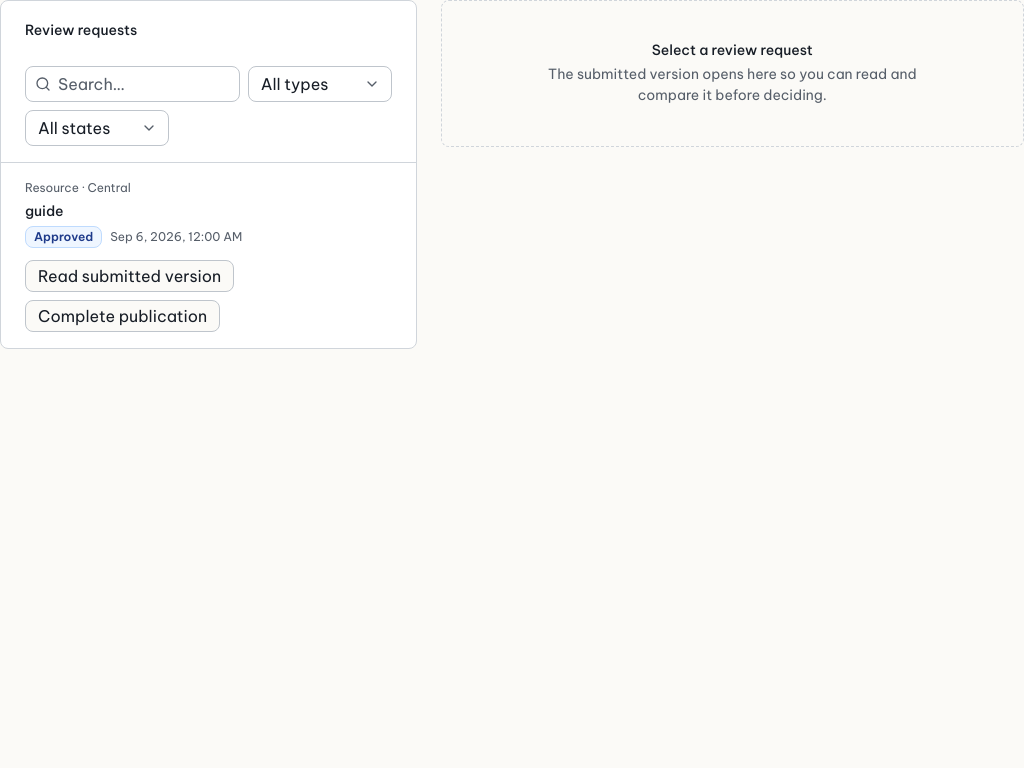
Test: review workbench publication › keeps atomic publication retryable when a 200 response reports stale
This screenshot has width=1024, height=768.
Click the button "Complete publication" at {"x": 123, "y": 316}, box [25,300,220,332]
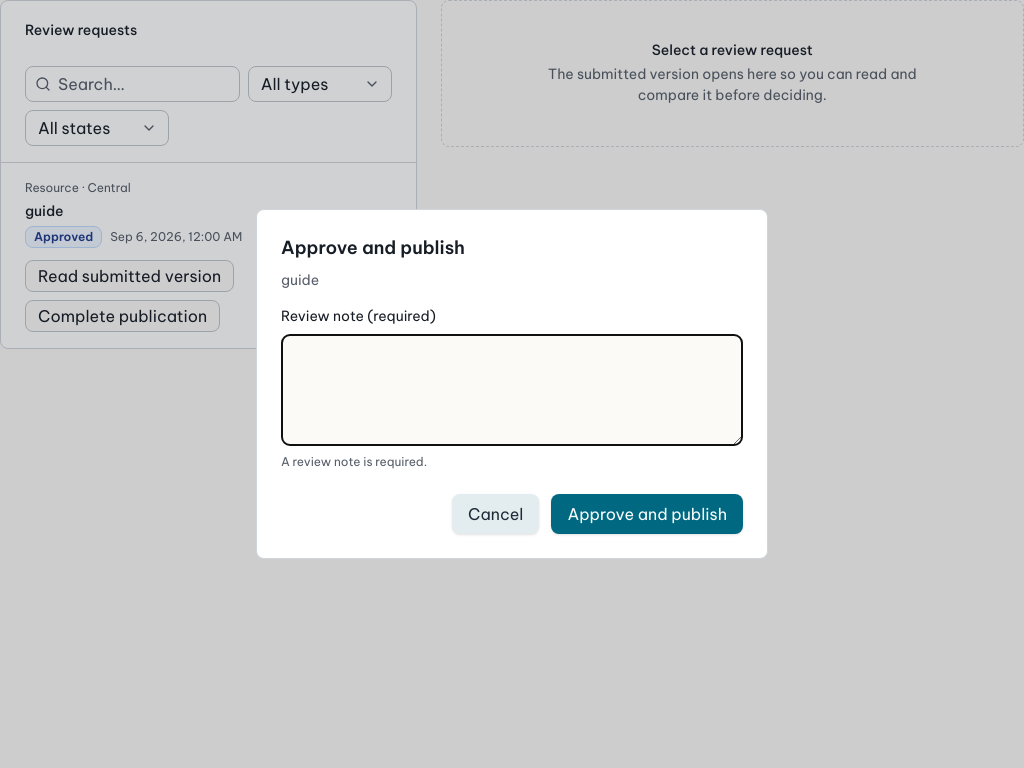
Type "Checked" into the text box labelled "Review note (required)" at {"x": 512, "y": 390}, box [281,334,743,446]
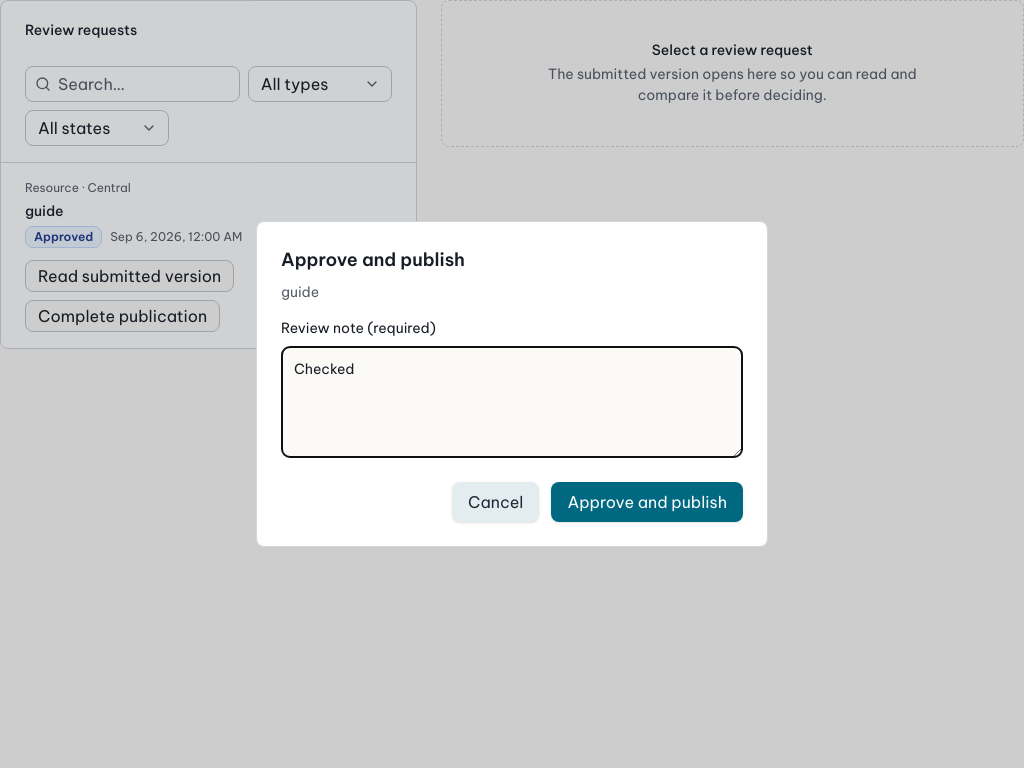
Click the button "Approve and publish" at {"x": 647, "y": 502}, box [551,482,743,522]
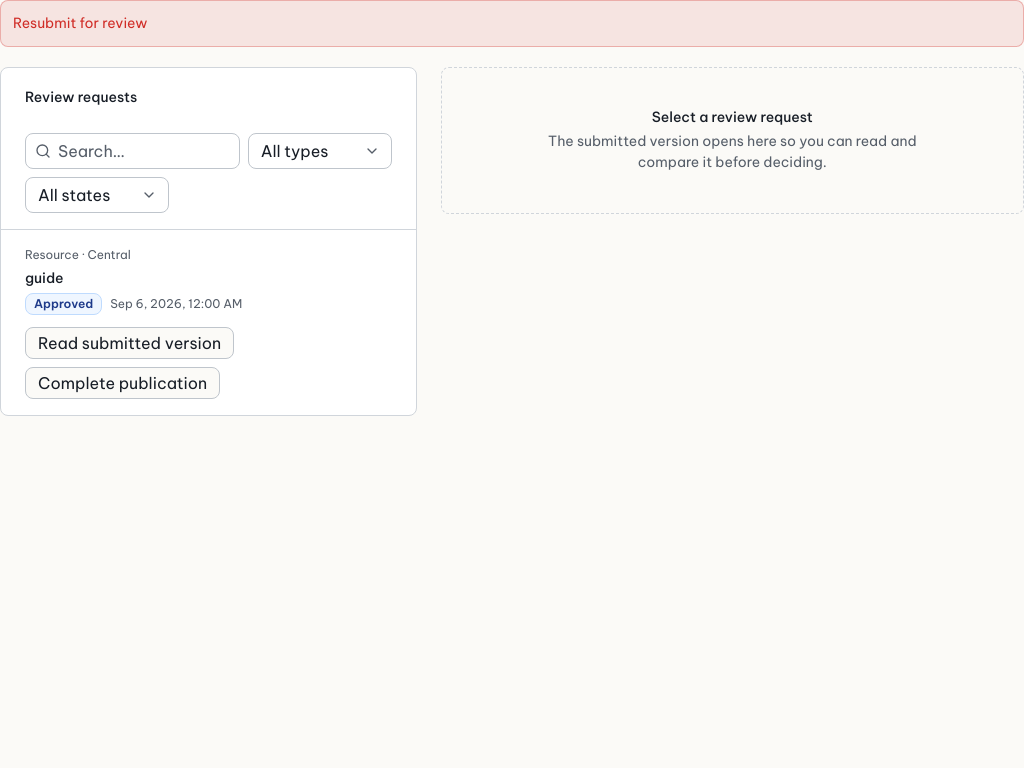
Expected: the button "Complete publication" is enabled, [25,367,220,399]
Expected: the message "Resubmit for review" is shown, [0,0,1023,47]
